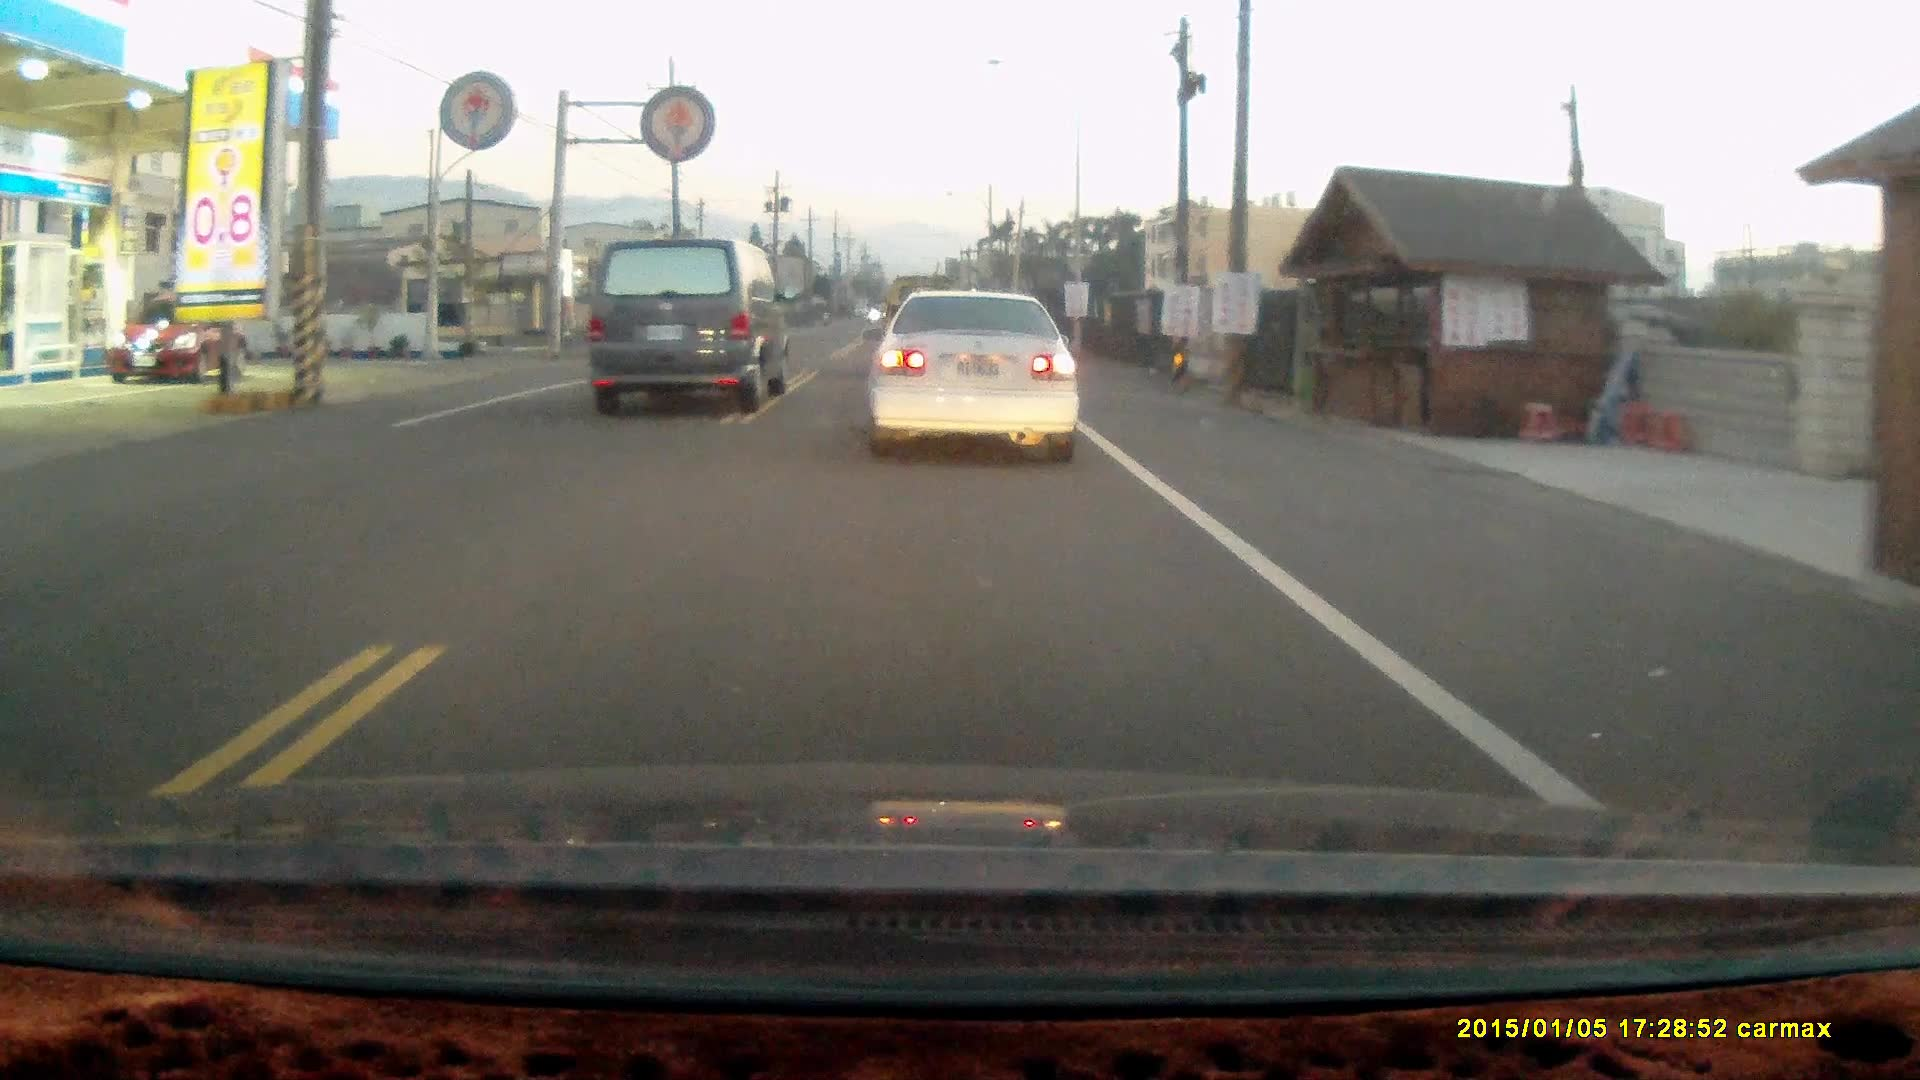vehicle: (862, 284, 1091, 465), (585, 237, 789, 410), (112, 293, 251, 389)
